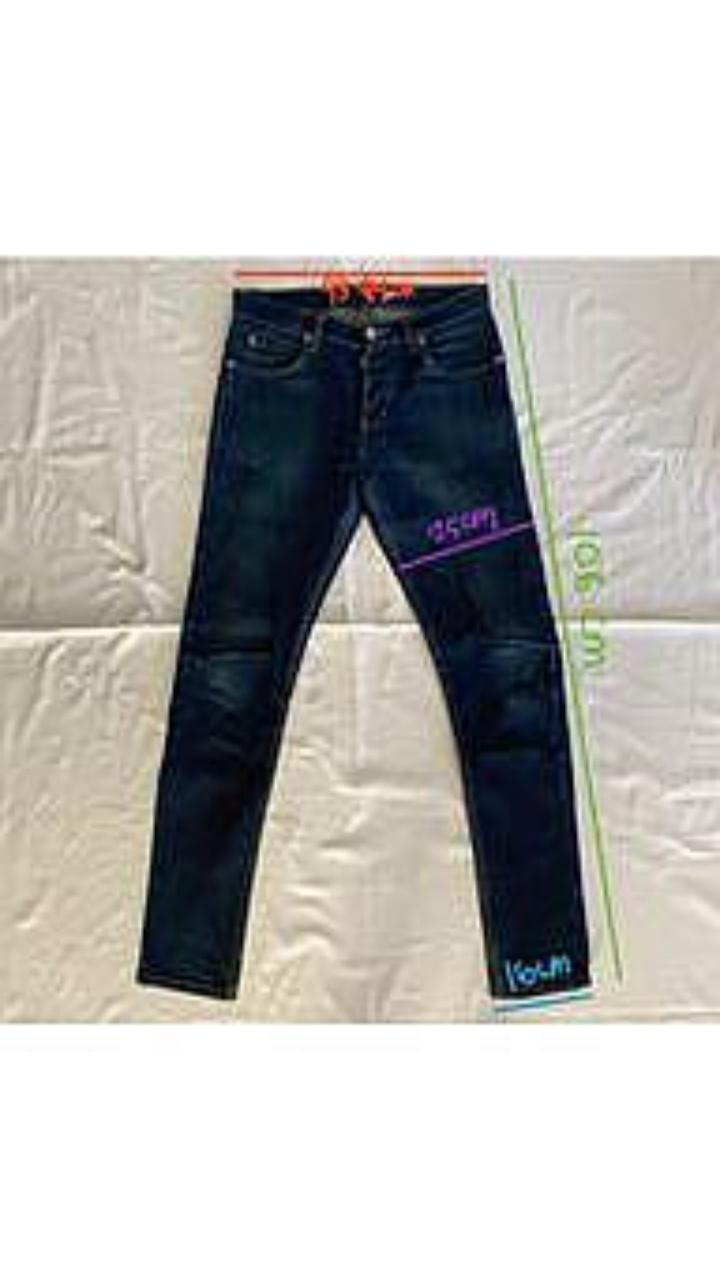Jeans: (136, 284, 590, 1001)
